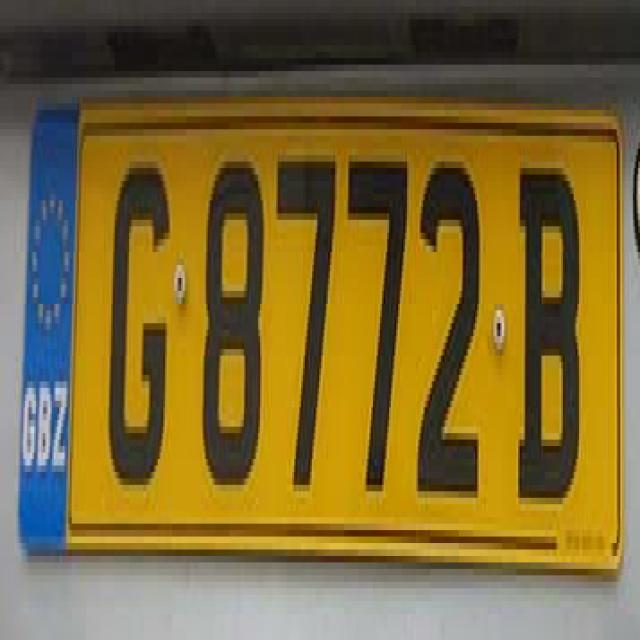Autre: (17, 96, 619, 560)
